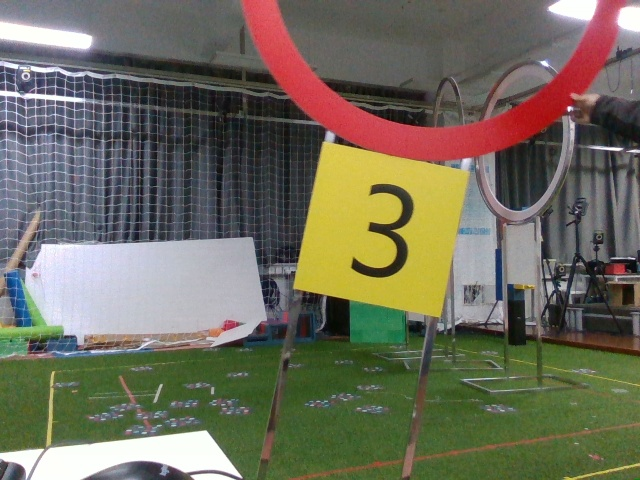target: (315, 166, 448, 293)
